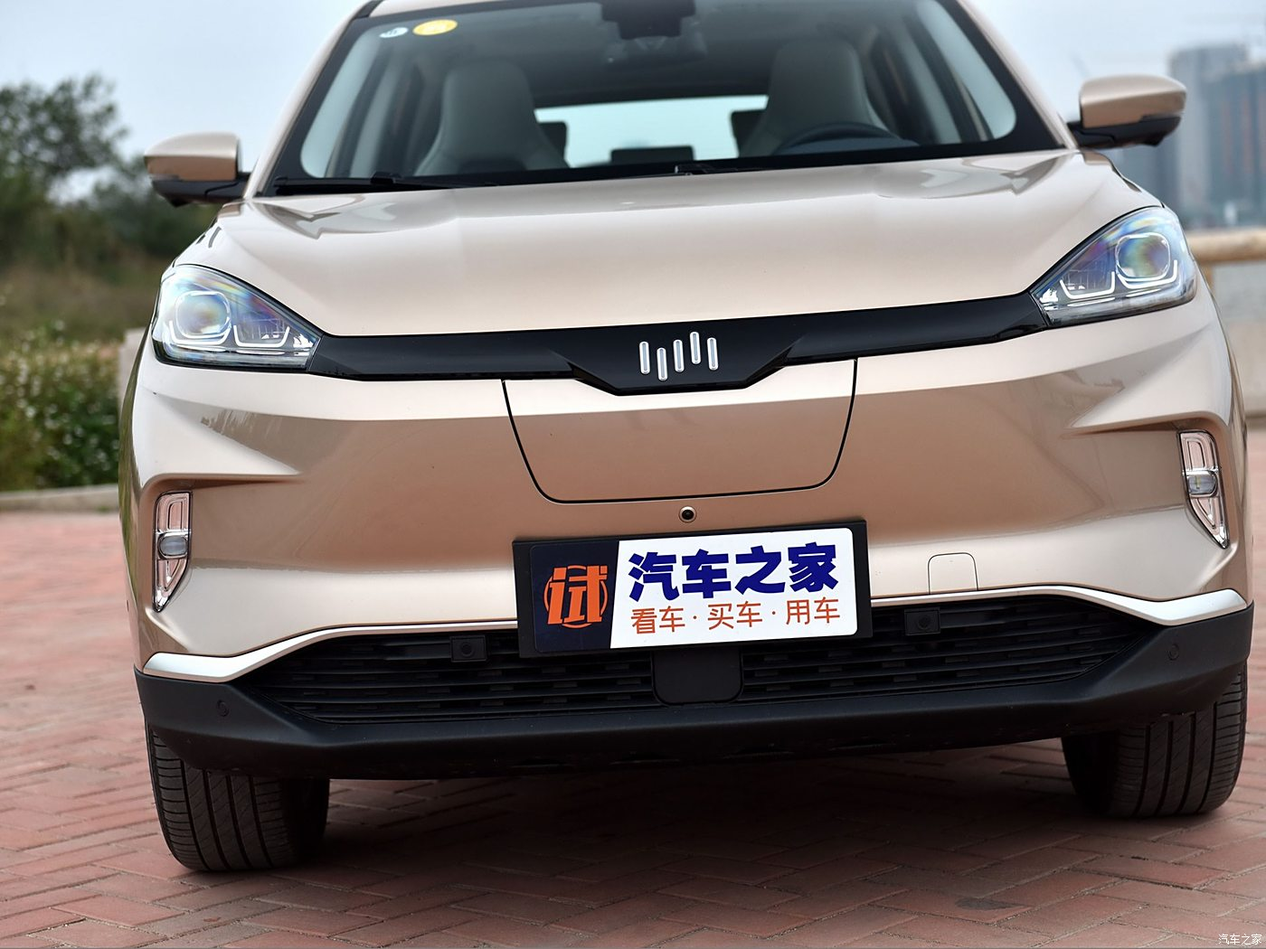WELTMEISTER: (640, 332, 717, 381)
